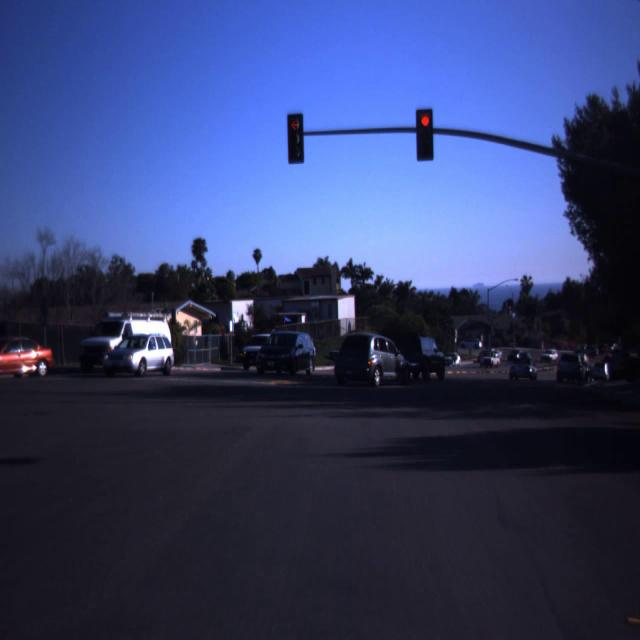stop: (422, 118, 428, 126)
stop left: (290, 117, 300, 131)
stop left traffic light: (281, 110, 309, 170)
stop traffic light: (415, 114, 435, 150)
